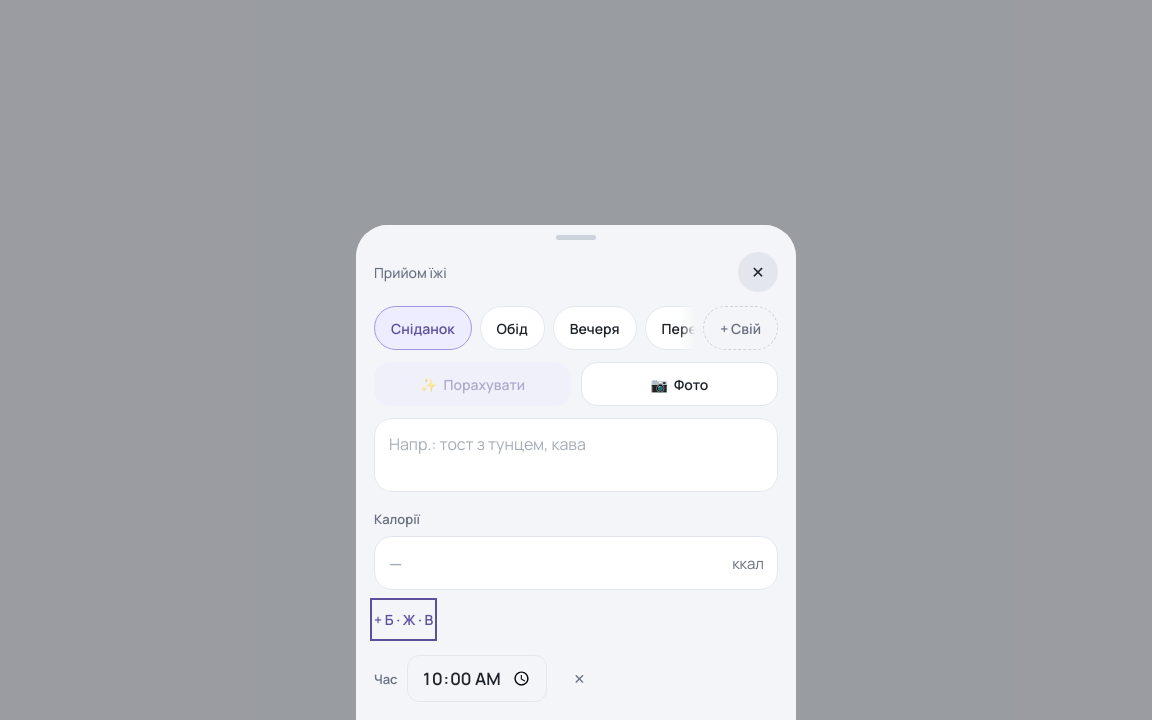
Test: MealEditorBody: the layout › no macro inputs on a new meal until «+ Б · Ж · В»; it opens them with «Білки» focused
Expected: the field labelled "Білки" is not shown
Click the button "+ Б · Ж · В" at (404, 620), box 374,602 -> 433,637
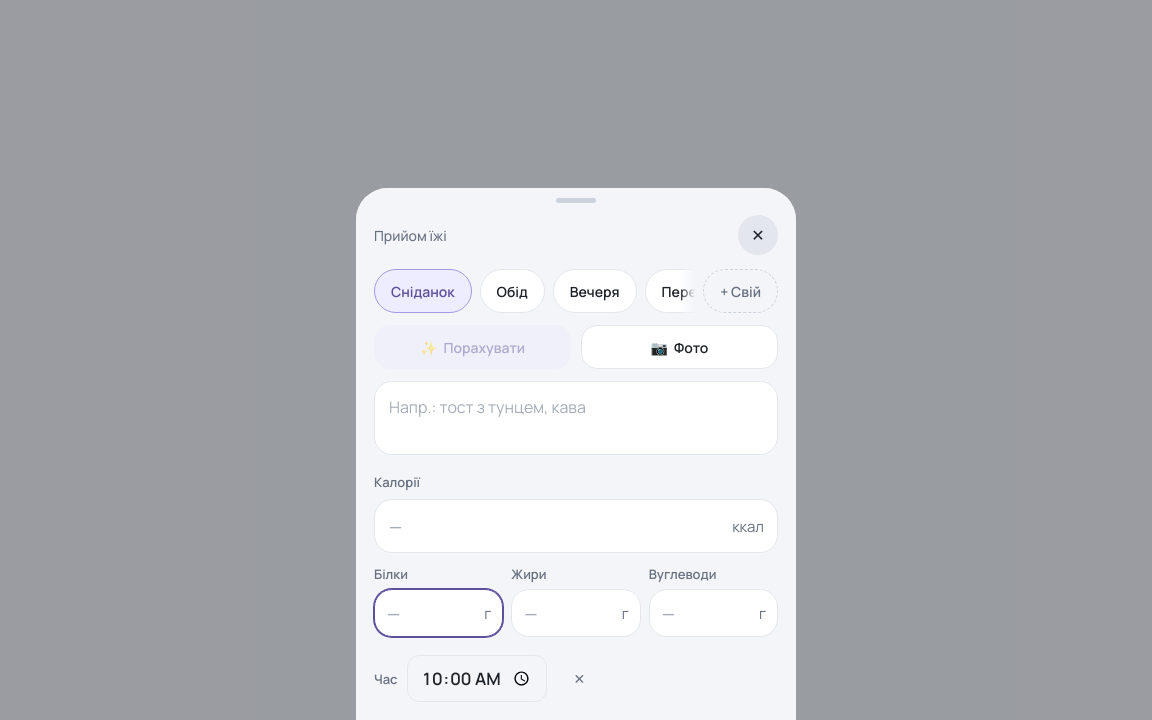
Expected: the field labelled "Жири" is shown, 511,589 -> 641,637
Expected: the field labelled "Вуглеводи" is shown, 649,589 -> 778,637
Expected: the button "+ Б · Ж · В" is gone
